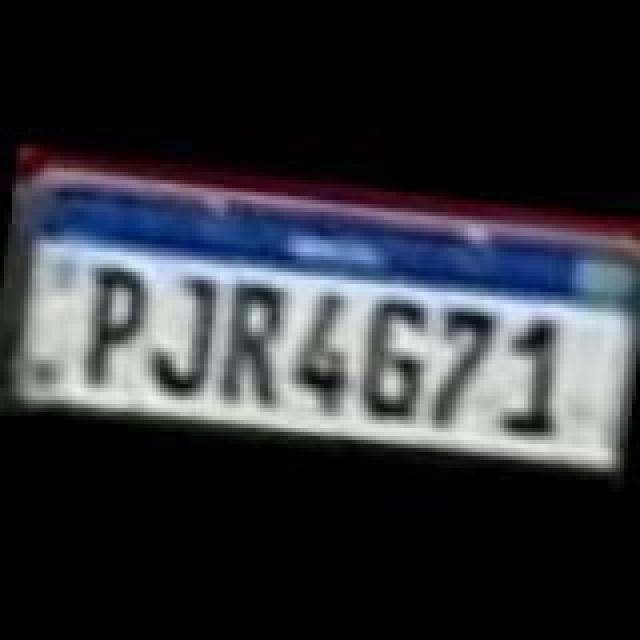1: (488, 308, 568, 444)
4: (284, 282, 364, 422)
7: (414, 304, 498, 432)
G: (350, 294, 434, 426)
J: (146, 272, 230, 400)
P: (76, 262, 148, 394)
R: (216, 280, 296, 408)
